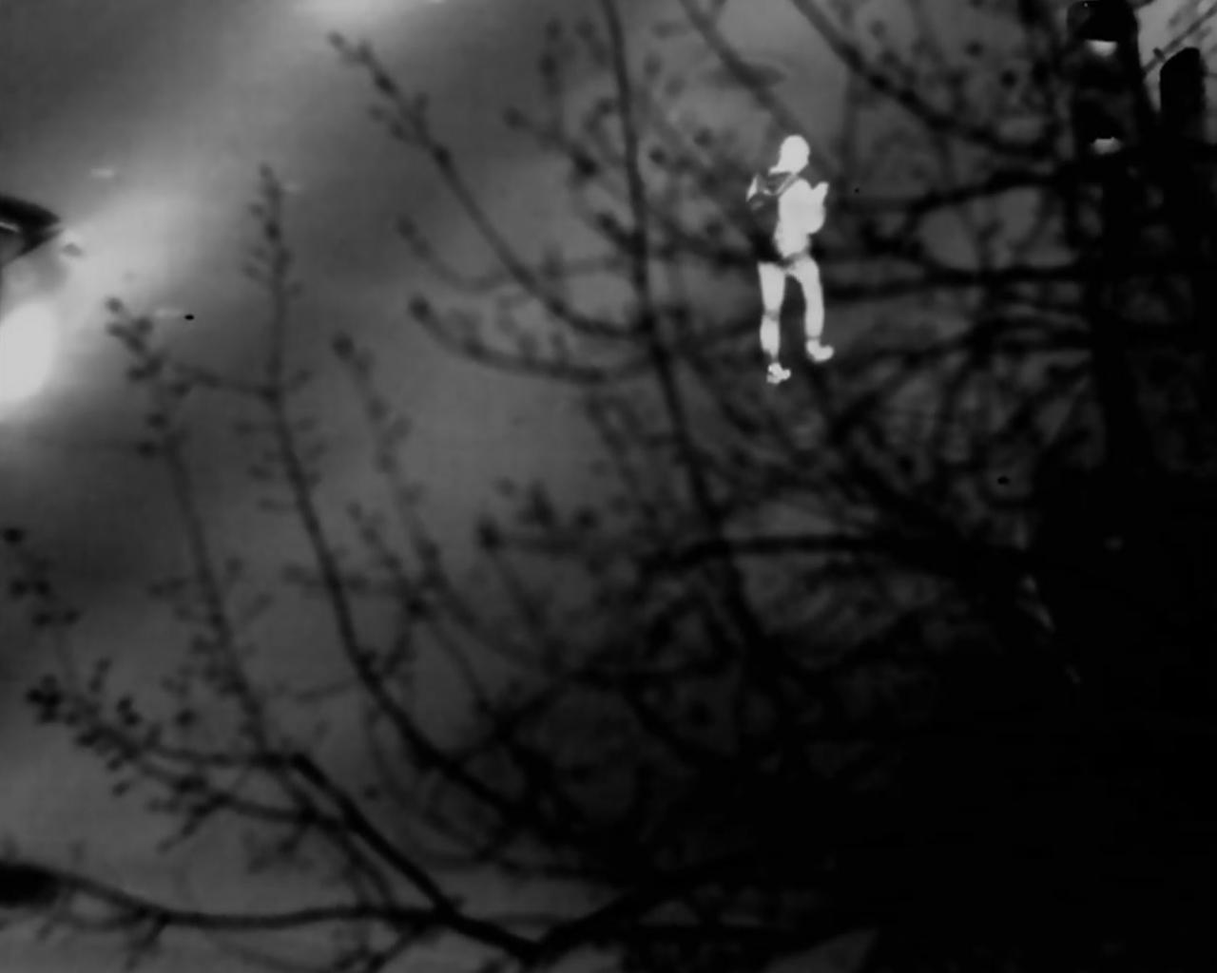person: (748, 126, 838, 380)
